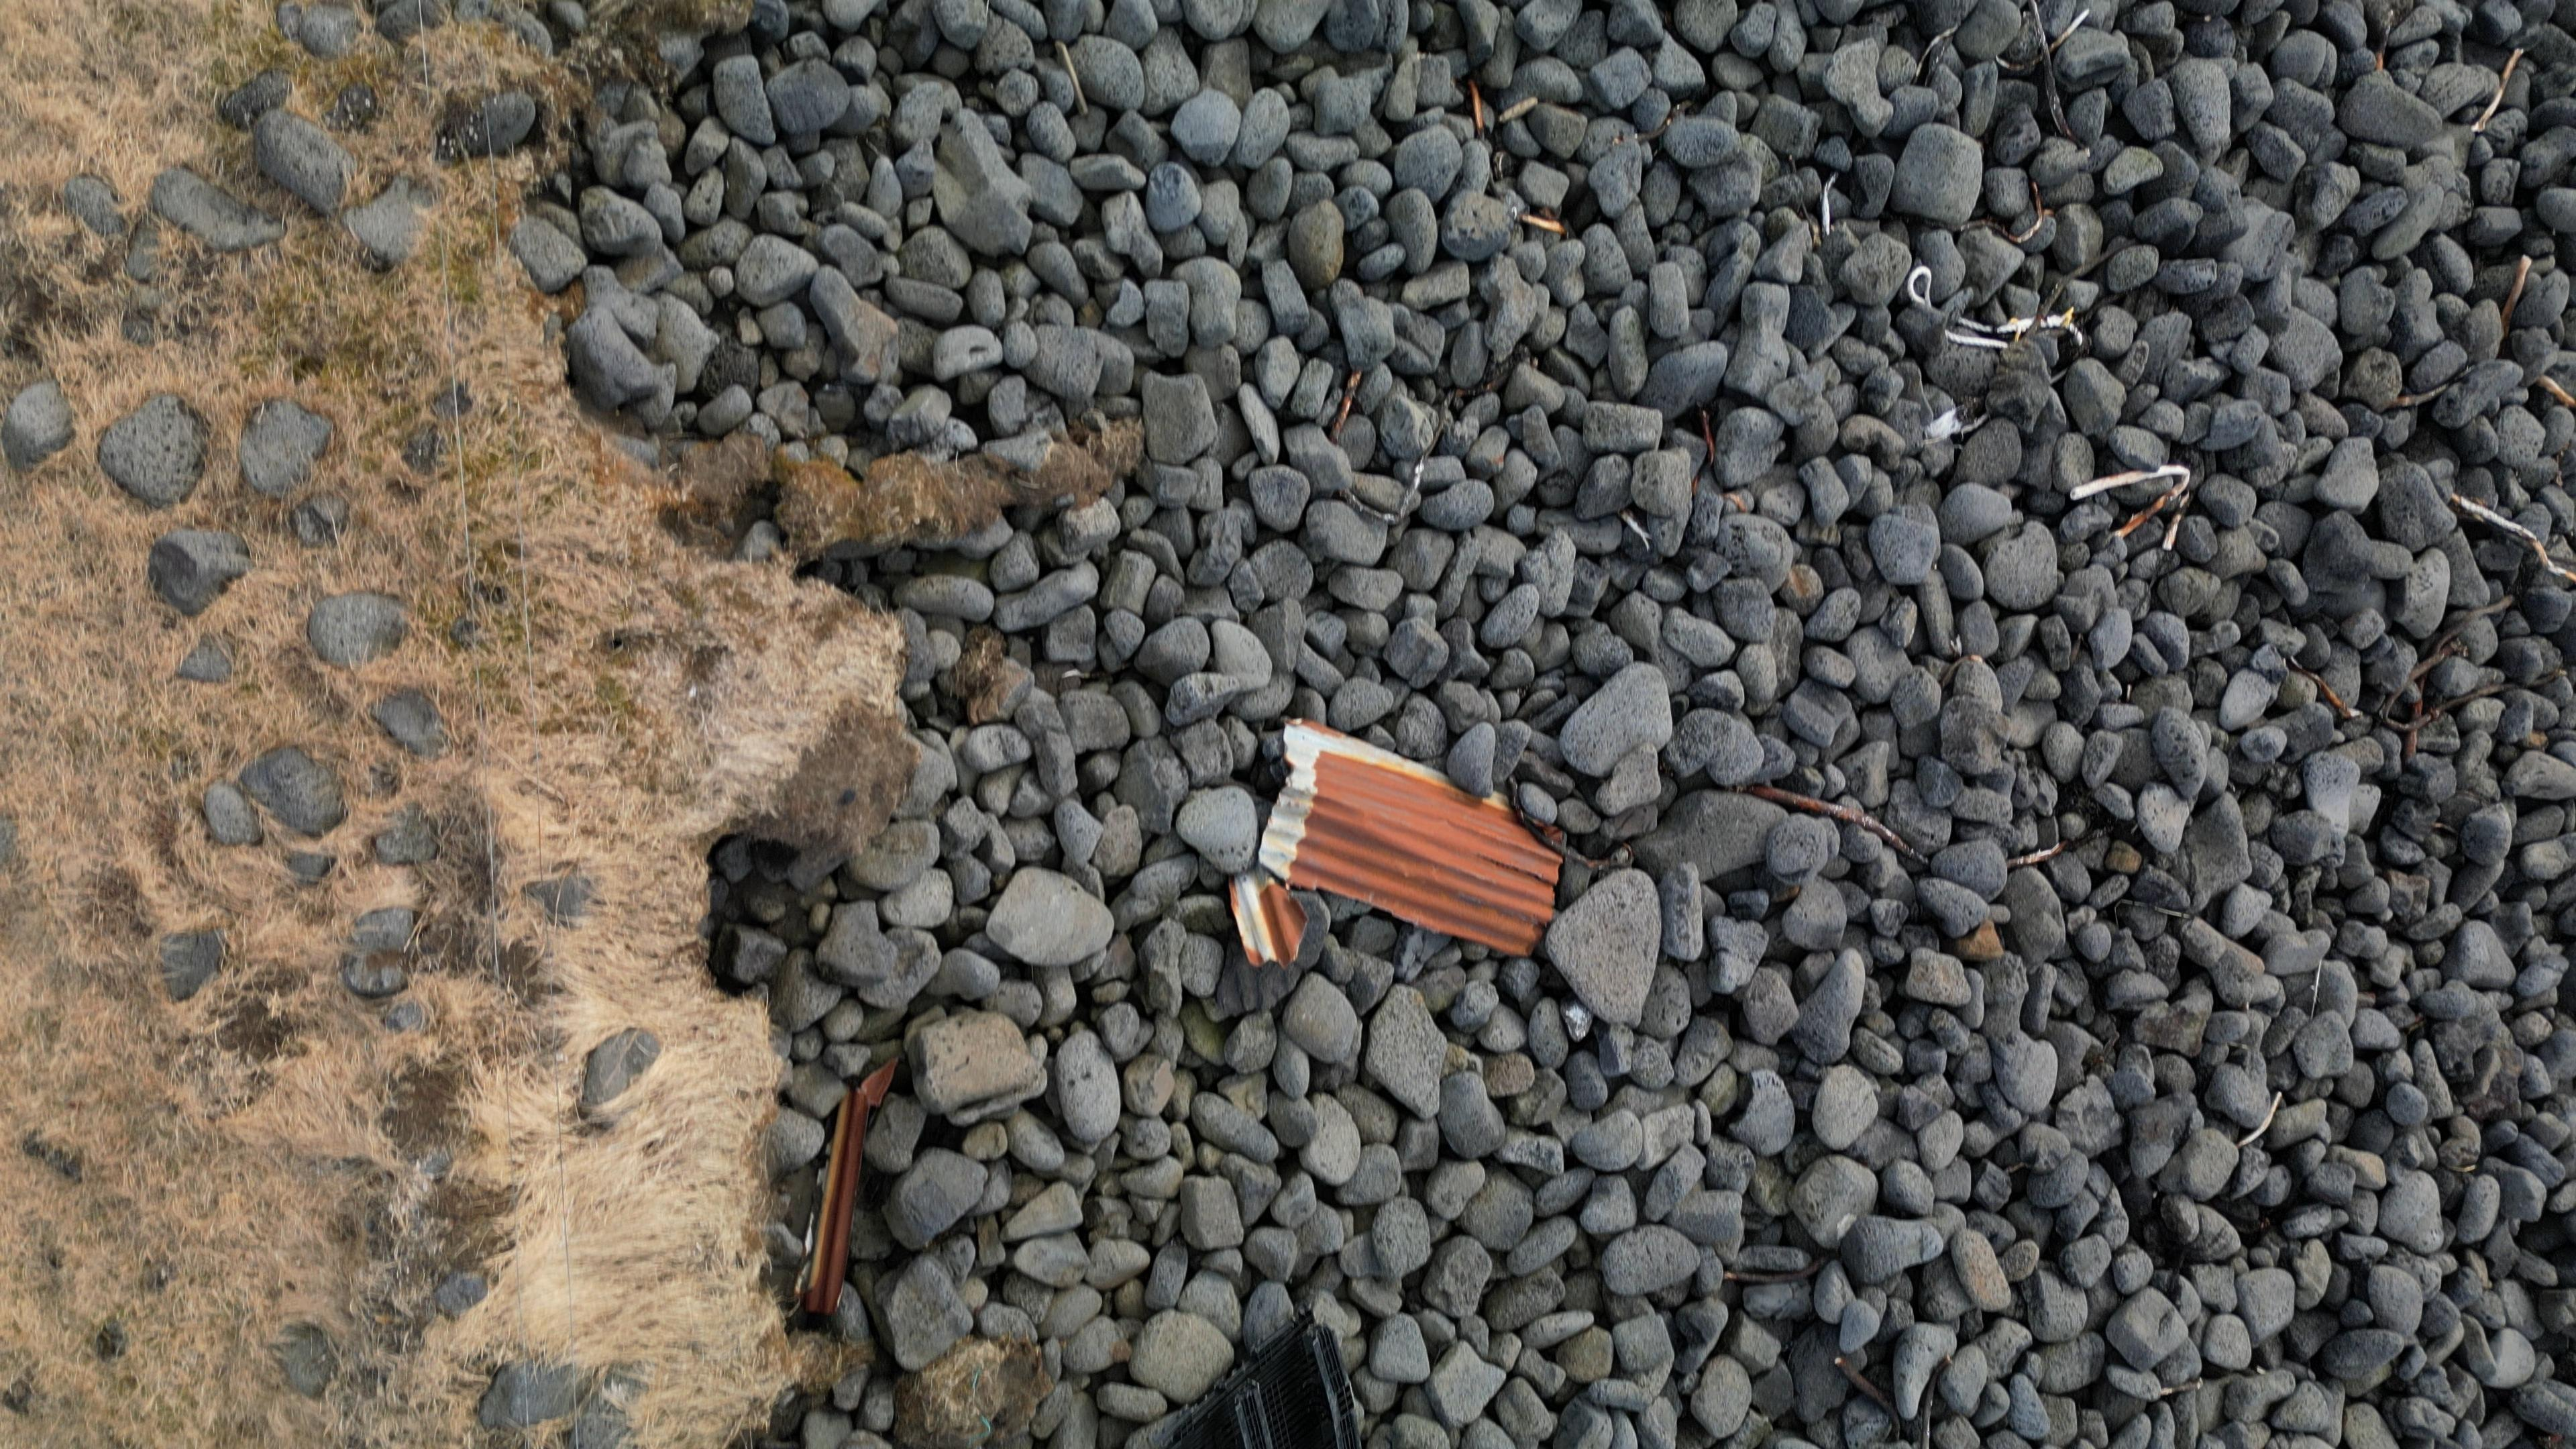trash: (1258, 724, 1560, 956), (1162, 1313, 1358, 1449), (800, 1061, 896, 1313), (1228, 865, 1308, 966), (1932, 312, 2083, 347), (1902, 267, 1932, 312)
